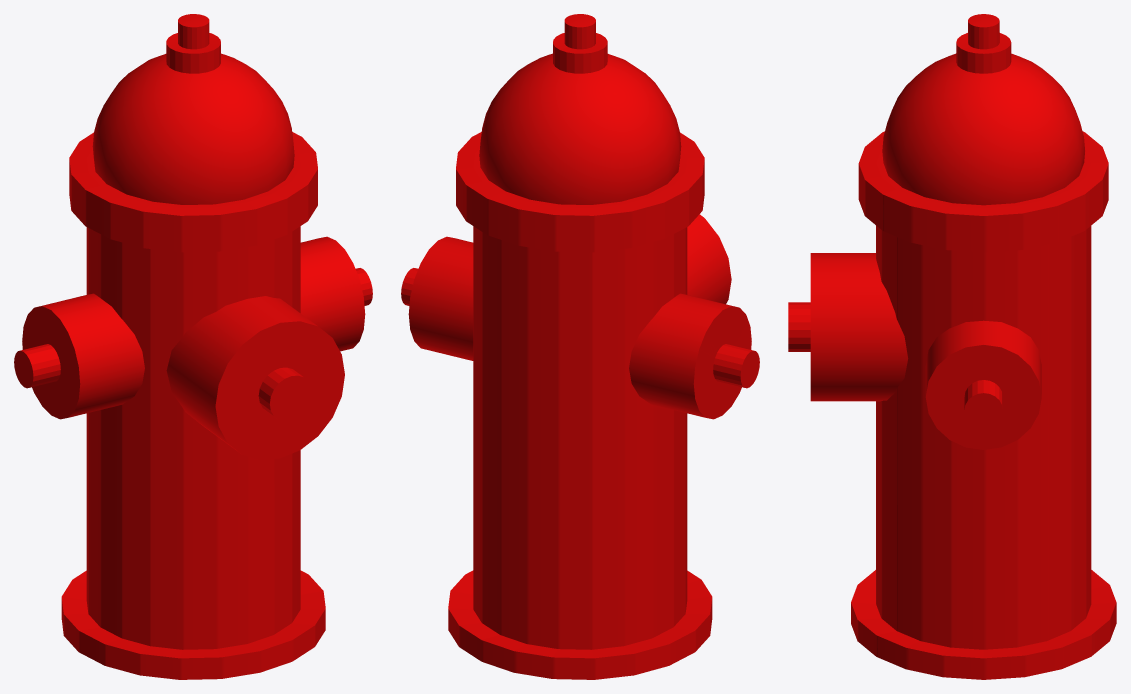
Rendered from FireHydrant.fbx.
3 views of the same model, side by side, from view 1: azimuth 30°, elevation 25°; view 2: azimuth 150°, elevation 25°; view 3: azimuth 270°, elevation 25° (orthographic).
Parts seen in each view (by area): view 1: polySurface25; view 2: polySurface25; view 3: polySurface25.
Boxes of the visible parts, x1=… form: polySurface25: x1=14, y1=14, x2=372, y2=679; polySurface25: x1=401, y1=14, x2=759, y2=679; polySurface25: x1=788, y1=14, x2=1116, y2=679.
Bounding box in the file's own units: 27.47 × 46.76 × 23.
